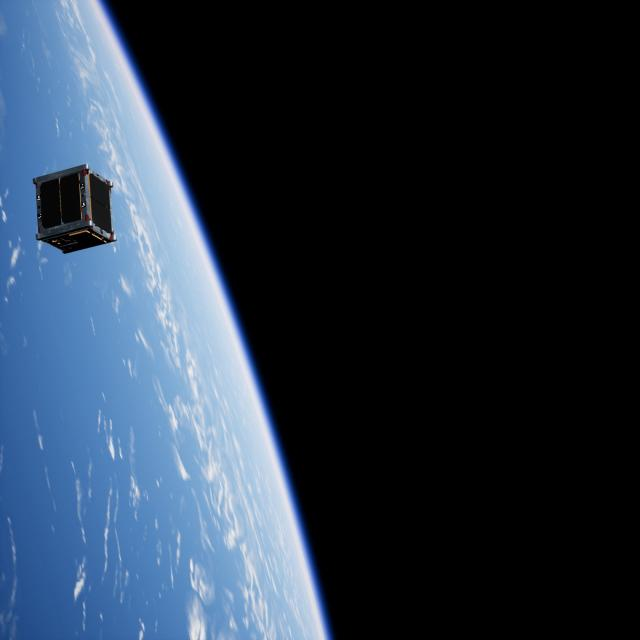satellite: (31, 161, 120, 255)
